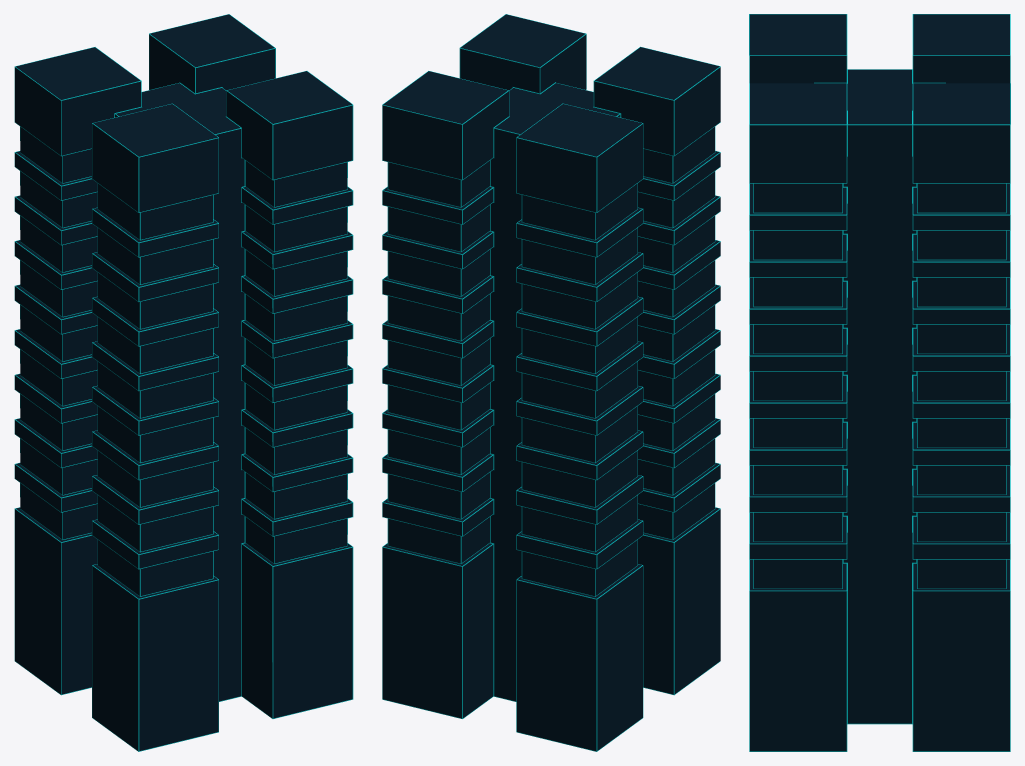
3 renders of one model, left to right at view 1: azimuth 30°, elevation 25°; view 2: azimuth 150°, elevation 25°; view 3: azimuth 270°, elevation 25°, orthographic. The views are drawn at different scales.
Parts seen in each view (by area): view 1: BuildingH01; view 2: BuildingH01; view 3: BuildingH01.
Part boxes in pixels (x1,y1,x2,y2): BuildingH01: [14, 14, 353, 751]; BuildingH01: [382, 14, 720, 751]; BuildingH01: [749, 14, 1010, 751].
Bounding box in the file's own units: 73.95 × 195 × 73.95.
1 material, 1 textured.
